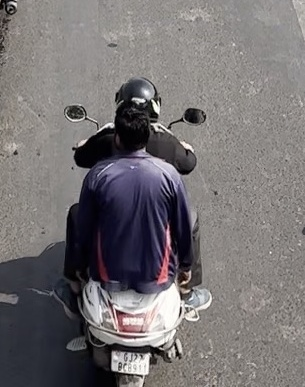BikeWithRider: (46, 71, 220, 387)
Helmet: (110, 73, 166, 124)
NoHelmet: (109, 101, 154, 157)
